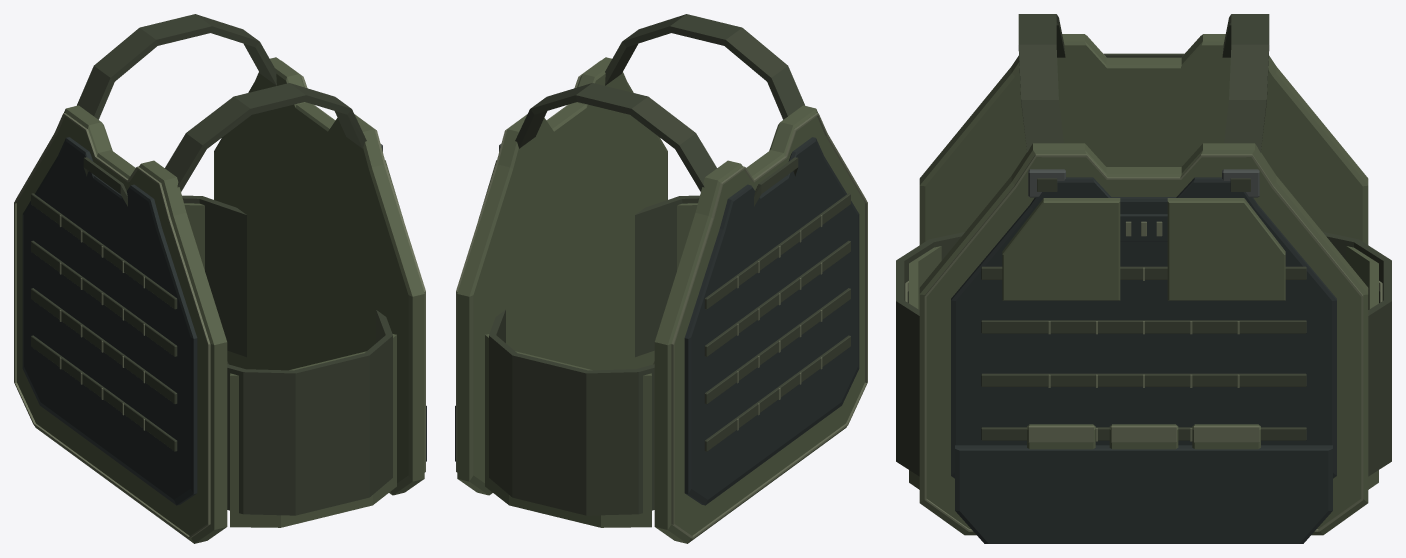
Rendered from SM_VestHeavy.fbx.
3 views of the same model, side by side, from view 1: azimuth 30°, elevation 25°; view 2: azimuth 150°, elevation 25°; view 3: azimuth 270°, elevation 25° (orthographic). The views are drawn at different scales.
Parts seen in each view (by area): view 1: SM_VestHeavy.001; view 2: SM_VestHeavy.001; view 3: SM_VestHeavy.001.
Part boxes in pixels (left/top/right/bottom): SM_VestHeavy.001: left=14, top=14, right=426, bottom=543; SM_VestHeavy.001: left=455, top=14, right=867, bottom=543; SM_VestHeavy.001: left=896, top=14, right=1391, bottom=543.
Bounding box in the file's own units: 26.86 × 41.98 × 41.99.
